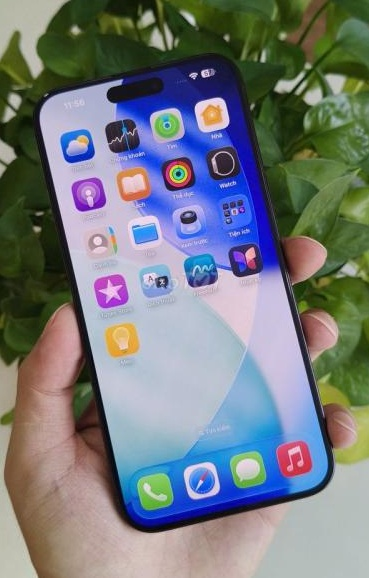scratch: (42, 91, 49, 98)
